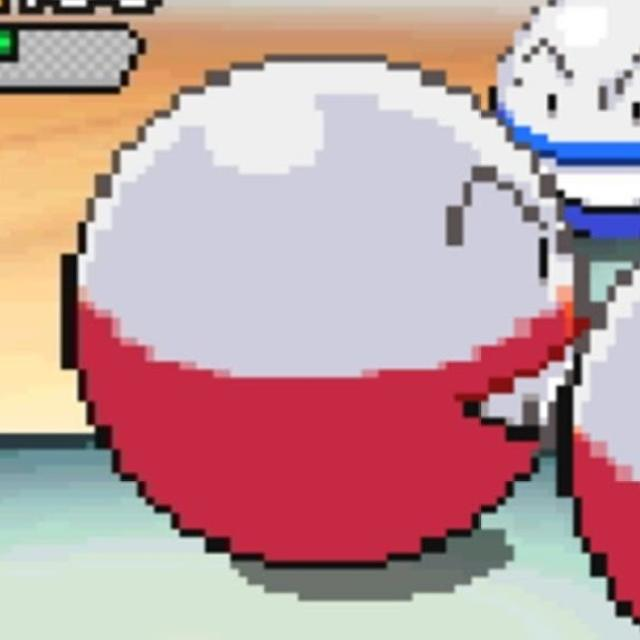Electrode: (75, 58, 579, 578)
